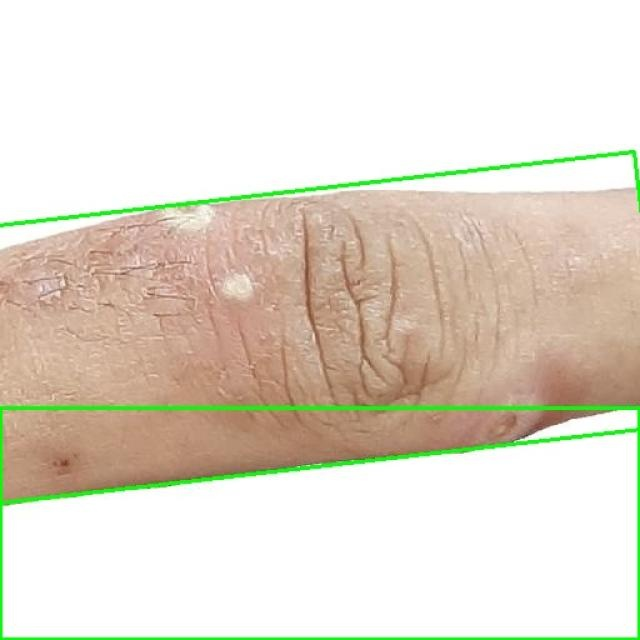Scabies: (0, 152, 640, 504), (0, 408, 639, 639)
